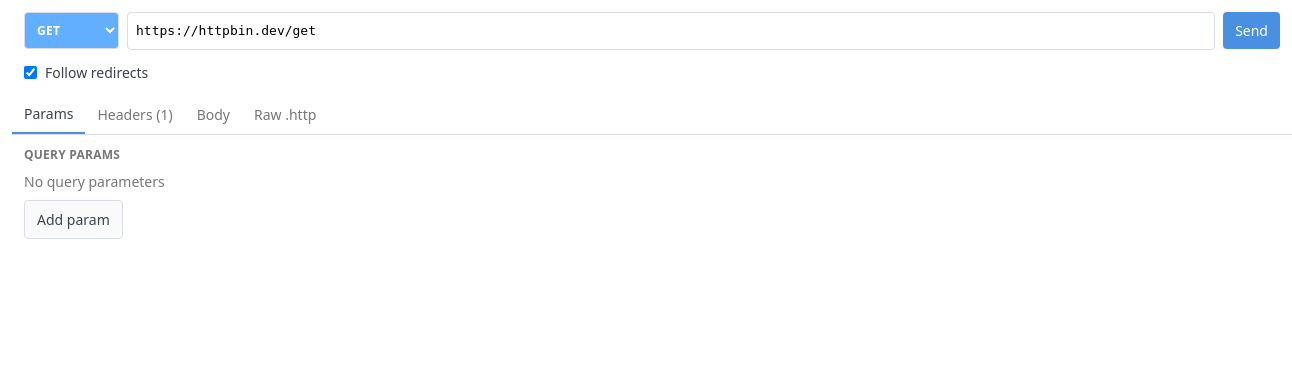
RequestEditor › shows parse error alert and stays on Raw when reparse fails
The image size is (1292, 380).
Click the tab "Raw .http" at (285, 114), box [242,94,328,134]
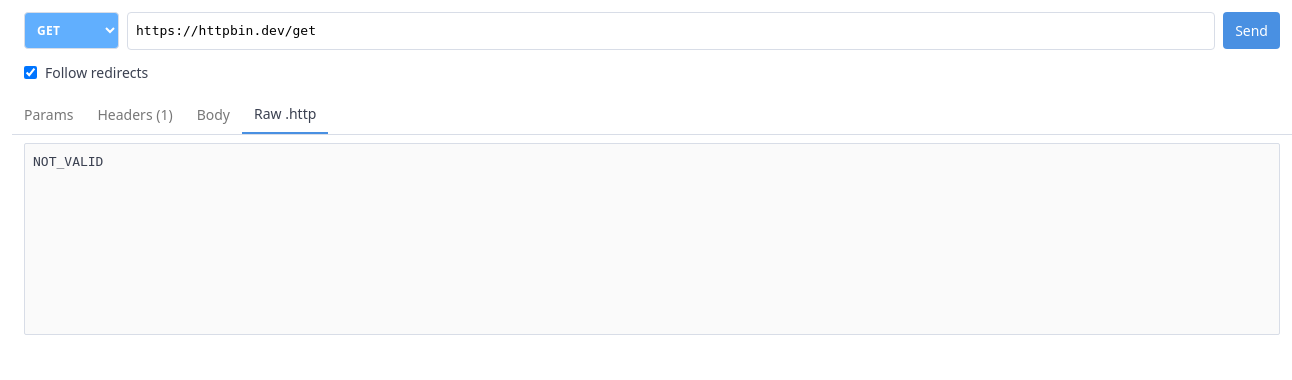
Now the text box named "Raw HTTP file" is shown, box [25,144,1279,334]
Click the tab "Headers (1)" at (135, 114), box [86,94,185,134]
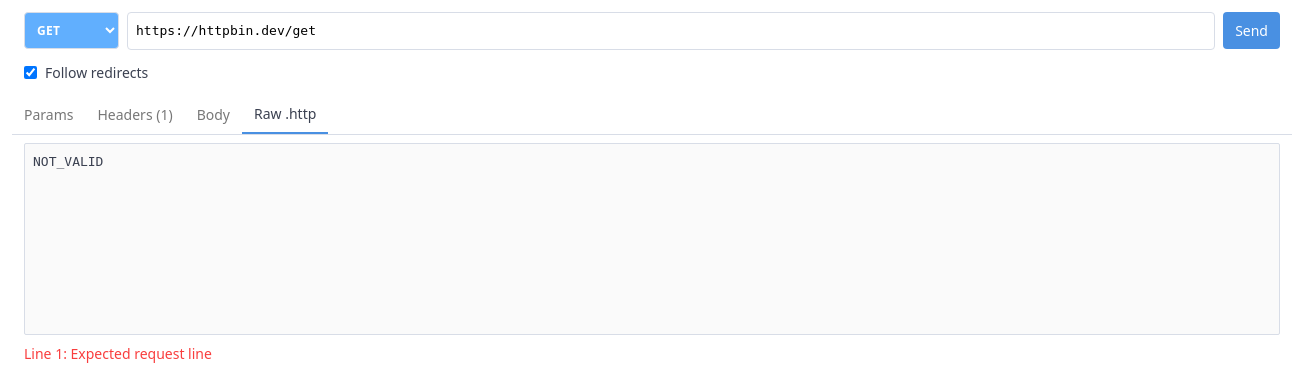
Now the message shows "Line 1:", box [24,344,212,362]
